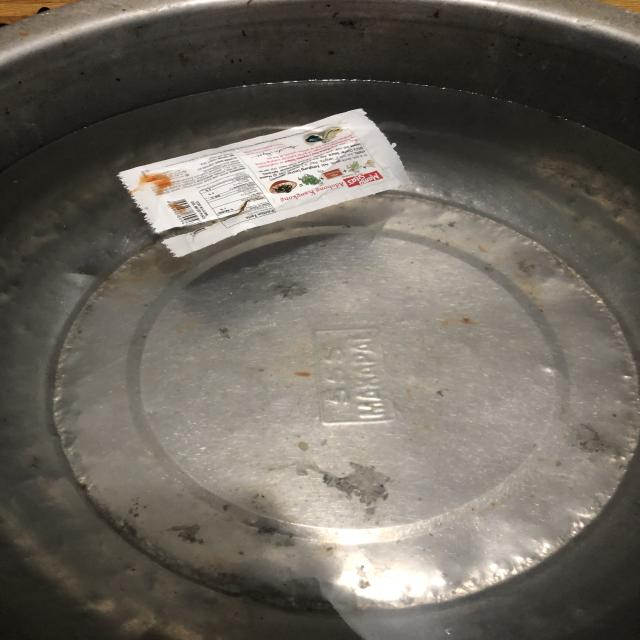Plastic Wrapper: (119, 109, 408, 257)
